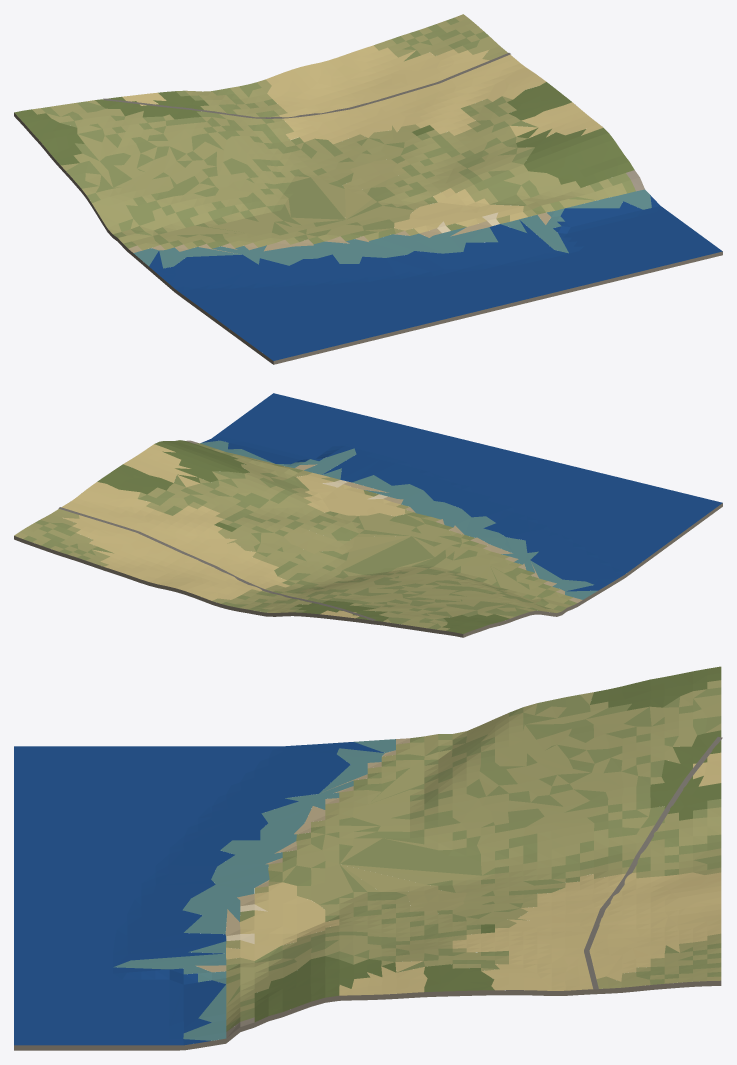
File: parca_+5_-10-uzak.glb
3 views of the same model, one above another, from view 1: azimuth 30°, elevation 25°; view 2: azimuth 150°, elevation 25°; view 3: azimuth 270°, elevation 25° (orthographic). The views are drawn at different scales.
Parts seen in each view (by area): view 1: parca_+5_-10_arazi_uzak, parca_+5_-10_yollar_uzak; view 2: parca_+5_-10_arazi_uzak, parca_+5_-10_yollar_uzak; view 3: parca_+5_-10_arazi_uzak, parca_+5_-10_yollar_uzak.
Part boxes in pixels (x1,y1,x2,y2): parca_+5_-10_arazi_uzak: (14,14,722,364); parca_+5_-10_yollar_uzak: (103,53,510,118); parca_+5_-10_arazi_uzak: (14,393,722,637); parca_+5_-10_yollar_uzak: (58,507,375,620); parca_+5_-10_arazi_uzak: (14,666,721,1050); parca_+5_-10_yollar_uzak: (584,737,722,989).
Size of the model in its own units: 1002 by 133 by 1002.
